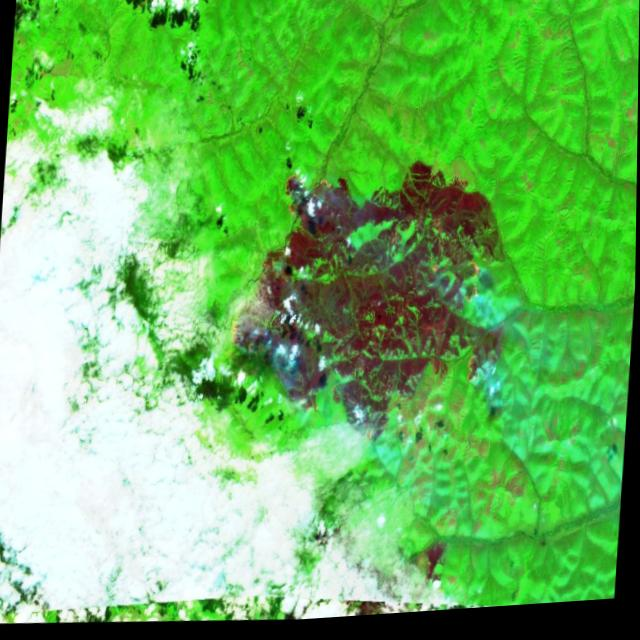fire: (423, 254, 487, 322), (281, 166, 329, 231), (226, 316, 266, 366)
